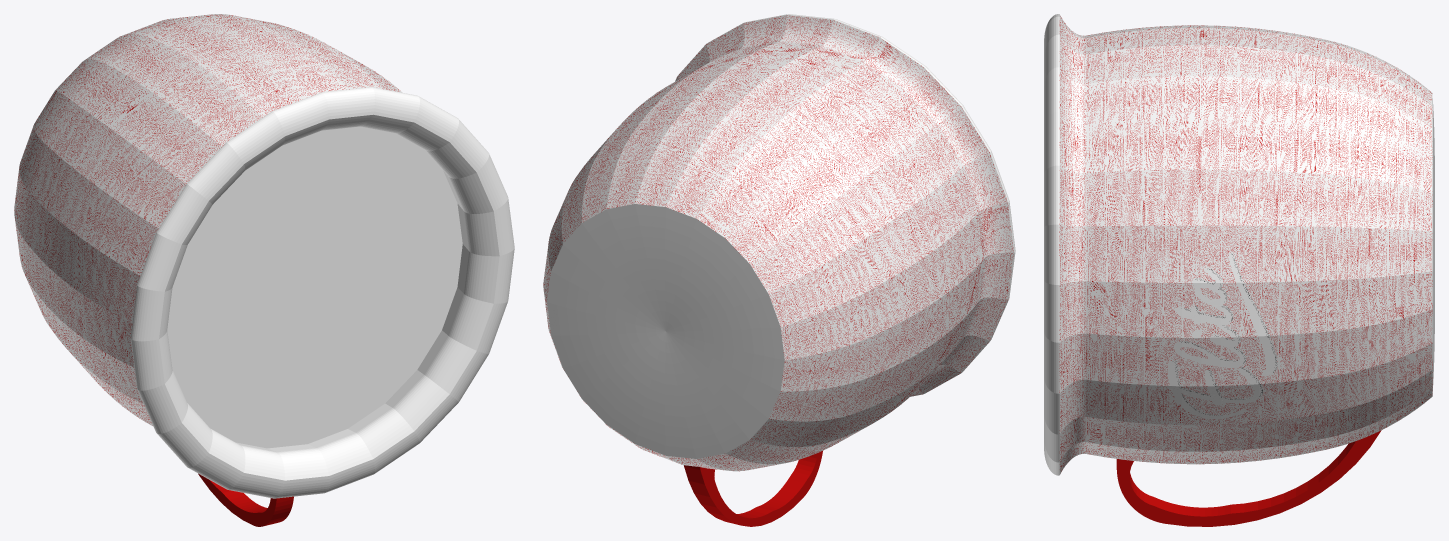
The picture shows the model from 3 angles, left to right: view 1: azimuth 30°, elevation 25°; view 2: azimuth 150°, elevation 25°; view 3: azimuth 270°, elevation 25°; orthographic projection. The views are drawn at different scales.
Visible parts, largest first — view 1: elita coffee cup; view 2: elita coffee cup; view 3: elita coffee cup.
Part boxes in pixels (x1=…): elita coffee cup: x1=14, y1=14, x2=514, y2=526; elita coffee cup: x1=543, y1=14, x2=1015, y2=526; elita coffee cup: x1=1044, y1=14, x2=1434, y2=526.
Size of the model in its own units: 17.77 by 20.83 by 14.99.
